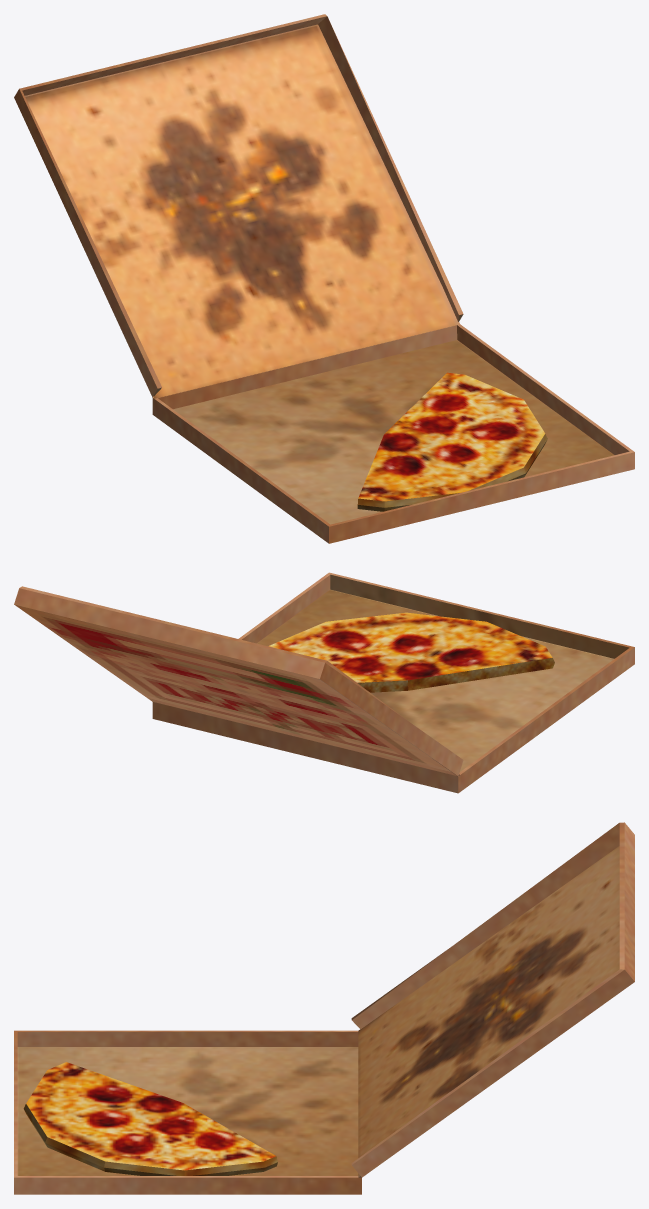
Rendered from pizza_half.obj.
The picture shows the model from 3 angles, top to bottom: view 1: azimuth 30°, elevation 25°; view 2: azimuth 150°, elevation 25°; view 3: azimuth 270°, elevation 25°; orthographic projection.
Visible parts, largest first — view 1: pizza_half; view 2: pizza_half; view 3: pizza_half.
Part boxes in pixels (x1,y1,x2,y2): pizza_half: [14, 14, 634, 543]; pizza_half: [14, 572, 634, 793]; pizza_half: [14, 822, 634, 1194].
Size of the model in its own units: 0.5276 by 0.3762 by 0.9413.
